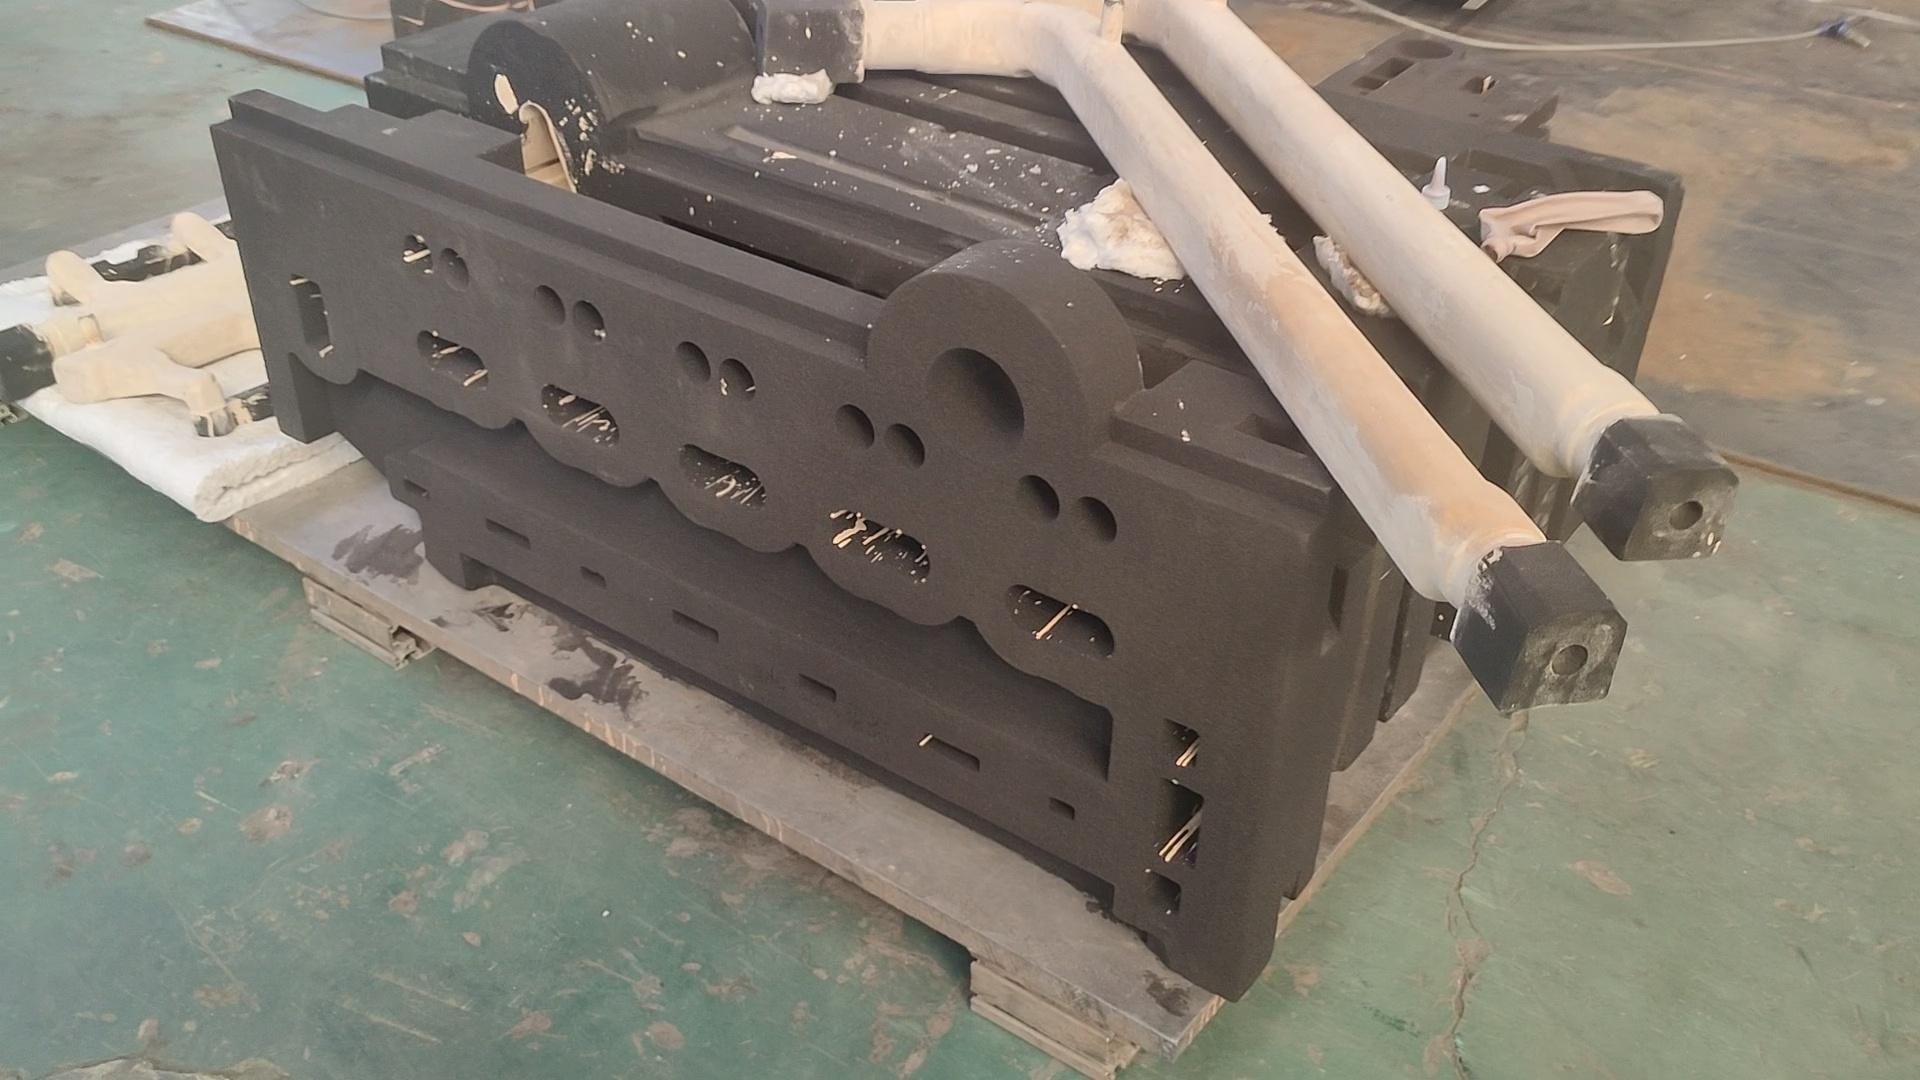pouring hole: (923, 347, 1026, 465), (1396, 37, 1453, 59)
